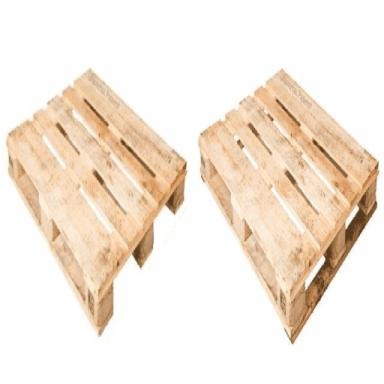pallet: (198, 68, 379, 344), (6, 67, 187, 337)
